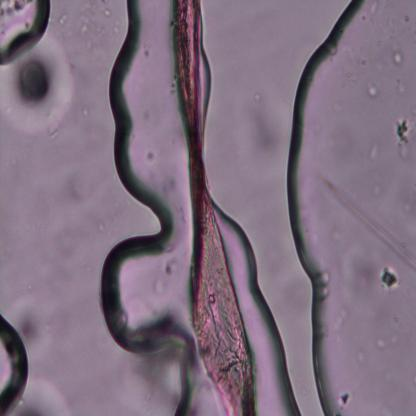Air bubble: (288, 0, 416, 414), (97, 1, 187, 371), (238, 213, 300, 415), (0, 0, 52, 65), (0, 312, 31, 414)
Background material: (3, 38, 74, 135), (237, 81, 280, 162), (140, 354, 182, 400), (80, 2, 113, 48), (17, 301, 44, 352), (386, 103, 409, 154), (368, 258, 398, 296), (69, 173, 95, 202), (387, 48, 412, 71), (316, 266, 330, 302), (57, 8, 72, 31), (339, 386, 354, 406), (369, 80, 379, 106)
Cotton: (171, 2, 258, 416)
